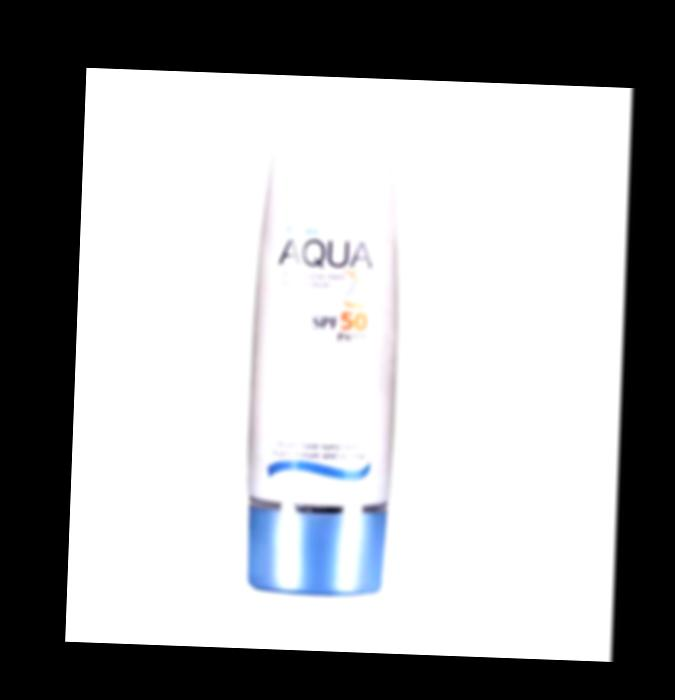cosmetic: (242, 129, 411, 596)
